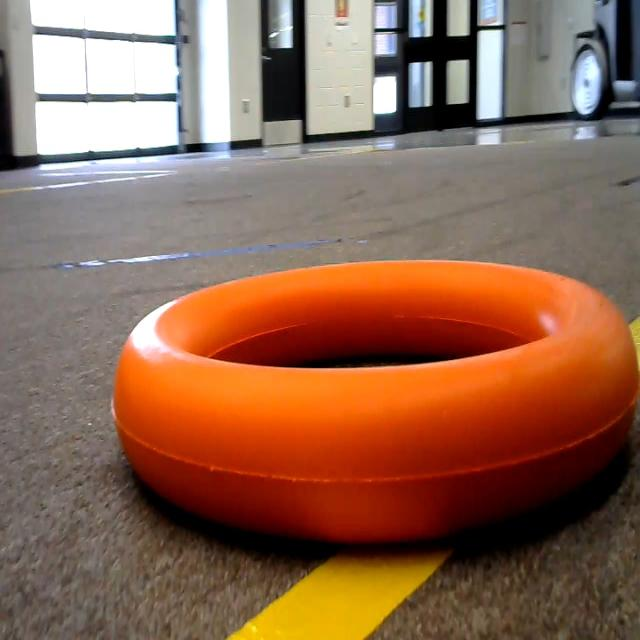note: (106, 249, 640, 529)
